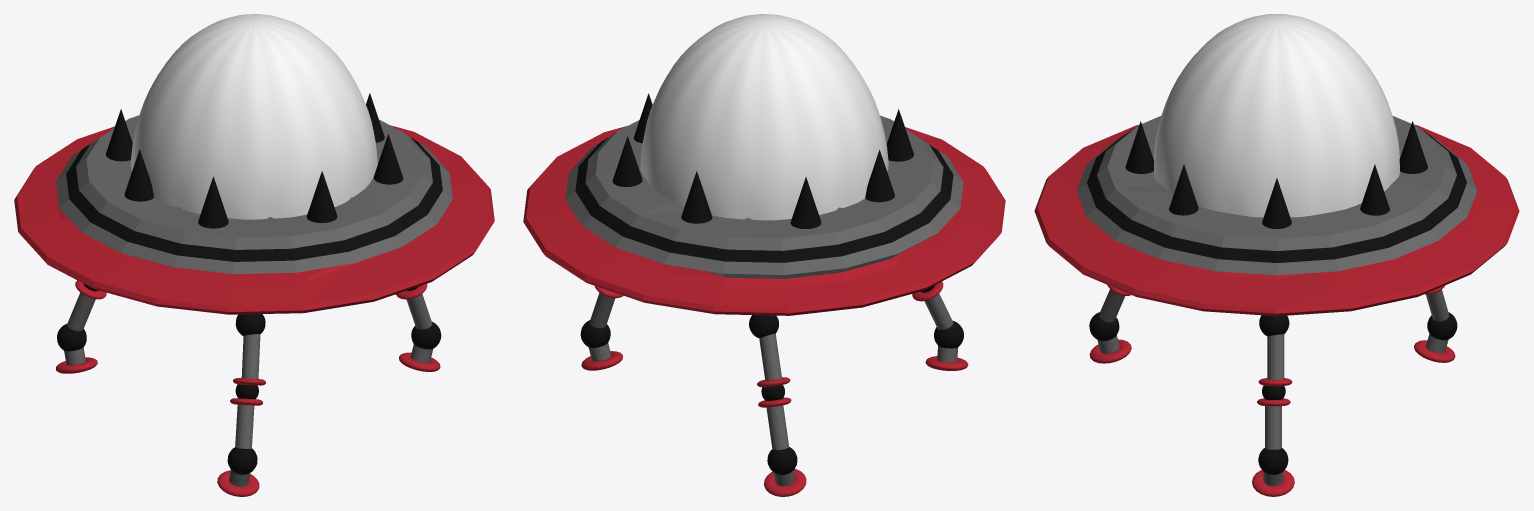
File: astra_t01.glb
3 renders of one model, left to right at view 1: azimuth 30°, elevation 25°; view 2: azimuth 150°, elevation 25°; view 3: azimuth 270°, elevation 25°, orthographic.
Parts seen in each view (by area): view 1: slot_anchor_saucer, canopy_shell, slot_legs; view 2: slot_anchor_saucer, canopy_shell, slot_legs; view 3: slot_anchor_saucer, canopy_shell, slot_legs.
Boxes of the visible parts, x1,y1,x2,y2 form: slot_anchor_saucer: (14,93,494,314); canopy_shell: (131,14,377,219); slot_legs: (56,280,441,496); slot_anchor_saucer: (523,93,1005,315); canopy_shell: (640,14,888,220); slot_legs: (580,281,968,496); slot_anchor_saucer: (1034,116,1519,316); canopy_shell: (1154,14,1399,217); slot_legs: (1089,285,1457,496).
Size of the model in its own units: 2 by 1.76 by 2.
Materials: 2 (1 with a texture image).
